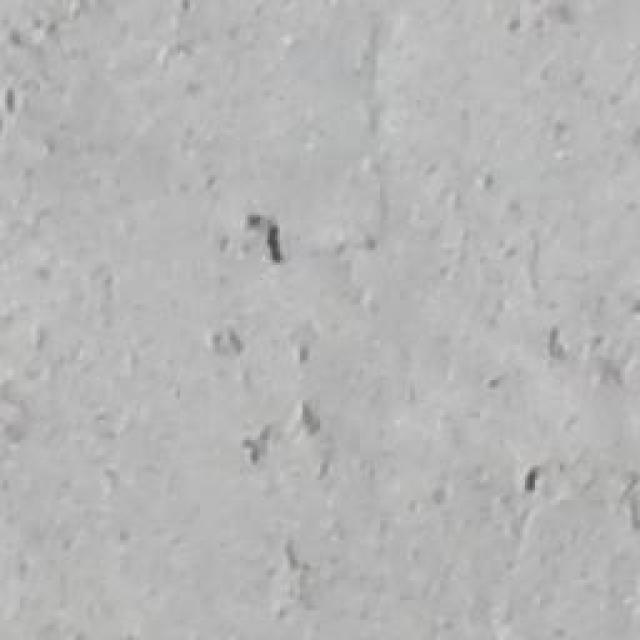concrete-crack: (245, 212, 285, 265)
